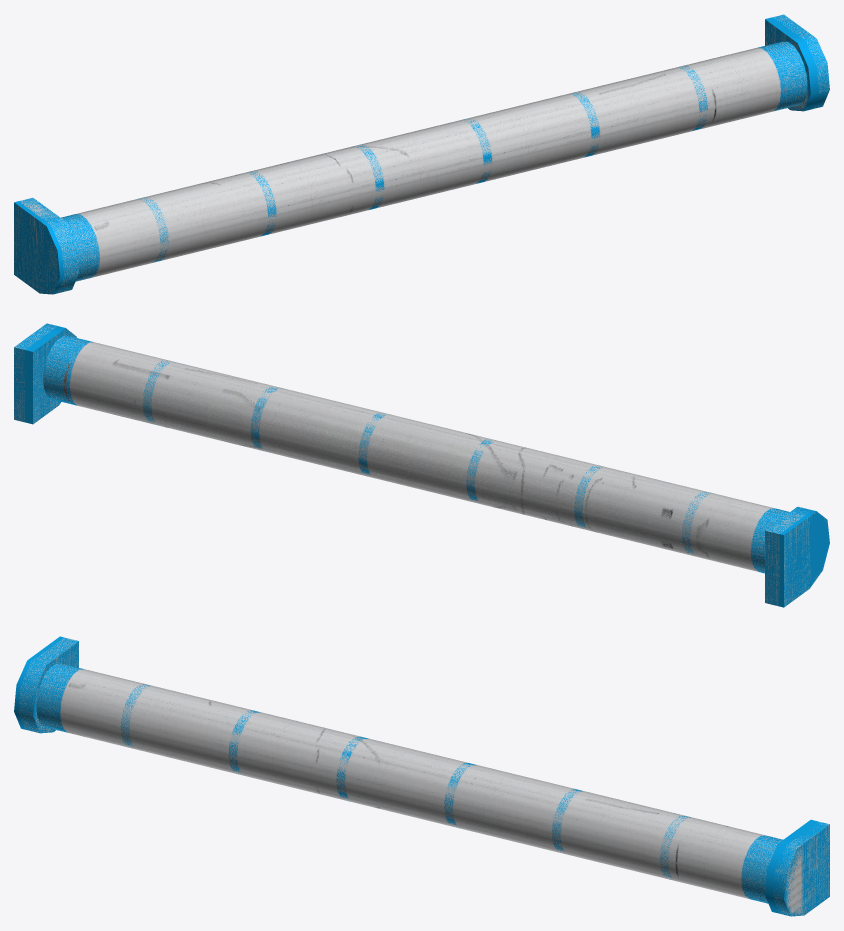
Rendered from TubeLight.fbx.
3 renders of one model, top to bottom at view 1: azimuth 30°, elevation 25°; view 2: azimuth 150°, elevation 25°; view 3: azimuth 330°, elevation 25°, orthographic.
Parts seen in each view (by area): view 1: bulb; view 2: bulb; view 3: bulb.
Boxes of the visible parts, x1,y1,x2,y2 form: bulb: (14, 14, 829, 294); bulb: (14, 323, 829, 607); bulb: (14, 636, 829, 916).
Bounding box in the file's own units: 13.71 × 1.23 × 1.42.
